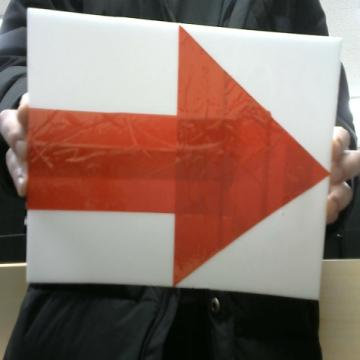red_right: (28, 26, 327, 284)
